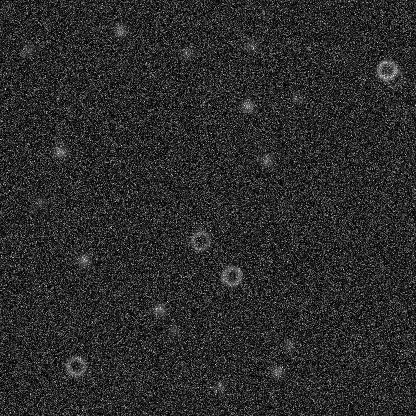Ring: (374, 57, 398, 81), (381, 65, 405, 89), (188, 228, 212, 252), (63, 354, 87, 378), (219, 263, 243, 287)
Spot: (279, 337, 295, 353), (211, 378, 227, 394), (75, 252, 91, 268), (51, 143, 67, 159), (32, 194, 48, 210), (288, 90, 304, 106), (151, 301, 167, 317), (239, 97, 255, 113), (243, 38, 259, 54), (165, 321, 181, 337), (111, 23, 127, 39), (258, 151, 274, 167), (178, 44, 194, 60), (20, 41, 36, 57), (269, 363, 285, 379)
